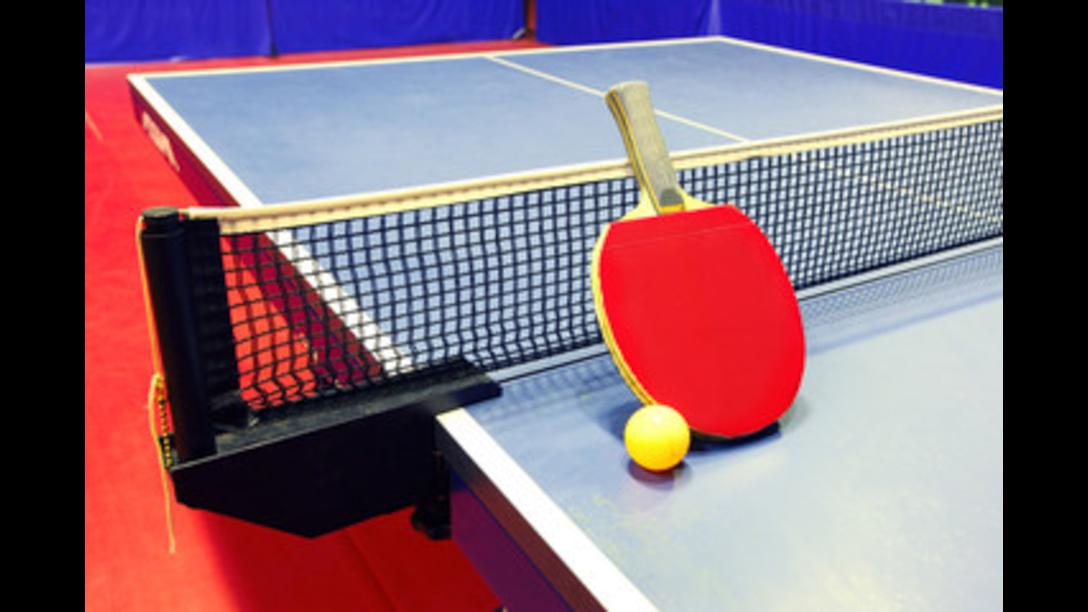Table-Tennis-Ball: (626, 405, 688, 469)
